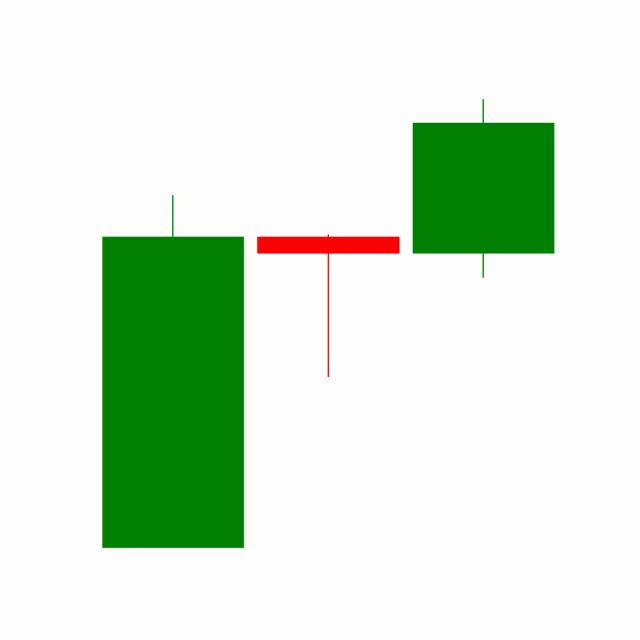Hanging Man: (249, 232, 406, 379)
